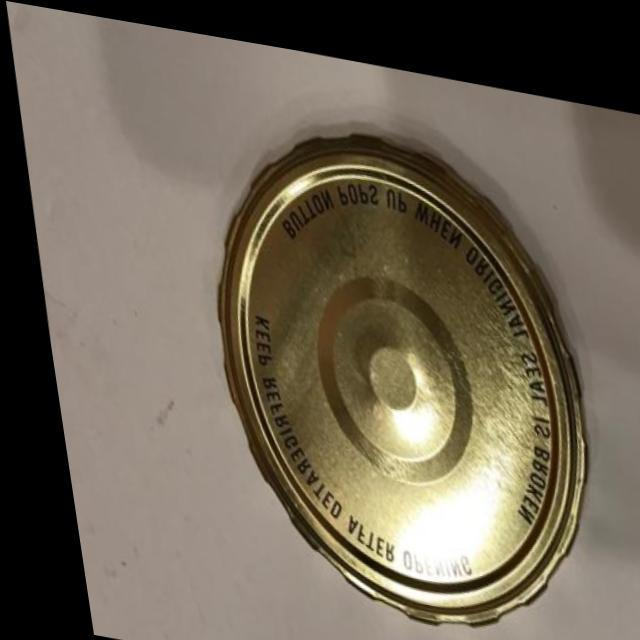metal: (142, 65, 629, 640)
